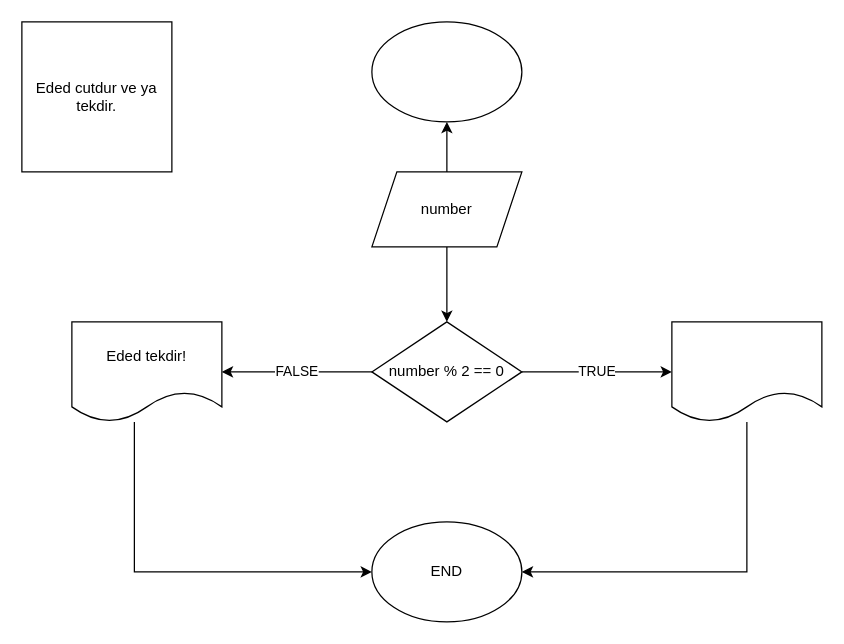
Some shapes in this 844 by 644 pixel diagram are drawn without their labels. The shapes that lost their labels are listed below. From the top down, each one's box as (x1, y1, x2, y2) in pixels, then its label:
(371, 21, 522, 122): START
(671, 321, 822, 422): Eded cutdur!
